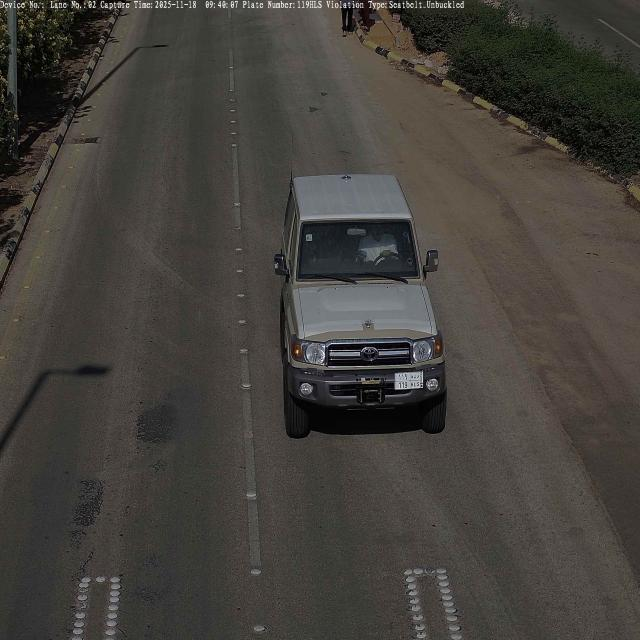person_without_seatbelt: (358, 222, 399, 261)
